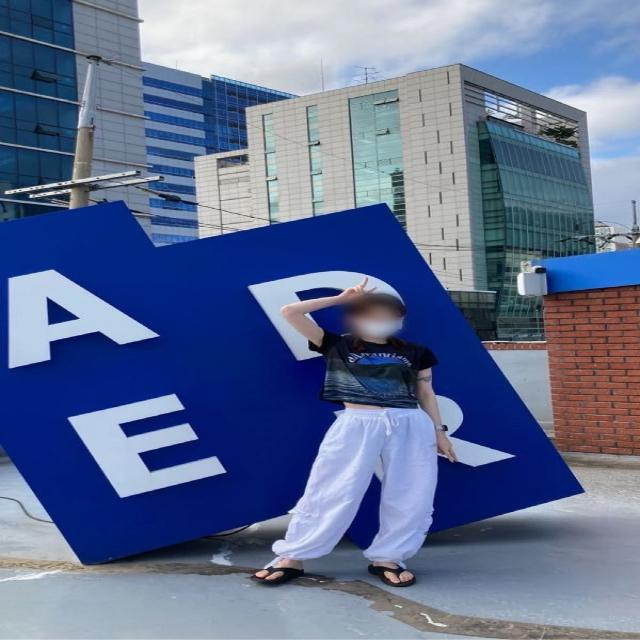shortsleeve: (309, 337, 442, 413)
trainingpants: (273, 404, 442, 566)
